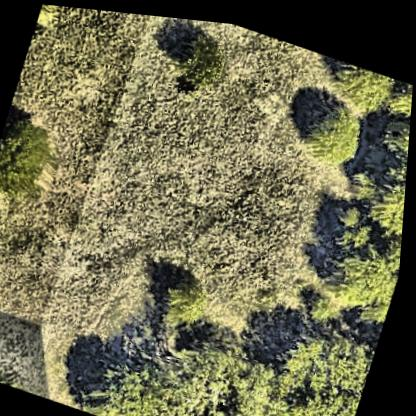tree-top: (95, 306, 311, 416), (274, 317, 380, 416), (290, 81, 377, 172), (159, 19, 242, 106), (0, 105, 65, 207), (334, 230, 404, 308), (319, 50, 398, 114), (159, 266, 221, 334), (365, 150, 409, 228), (331, 193, 383, 249), (303, 274, 344, 317), (385, 98, 412, 154), (387, 71, 414, 112), (279, 415, 353, 416)
